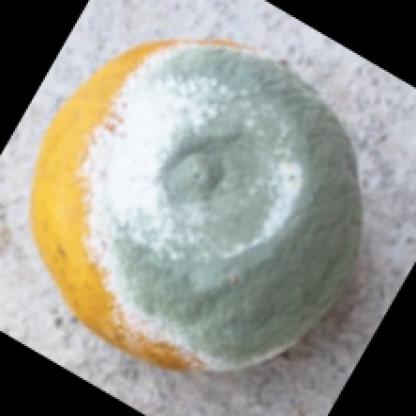rotten: (36, 38, 366, 375)
